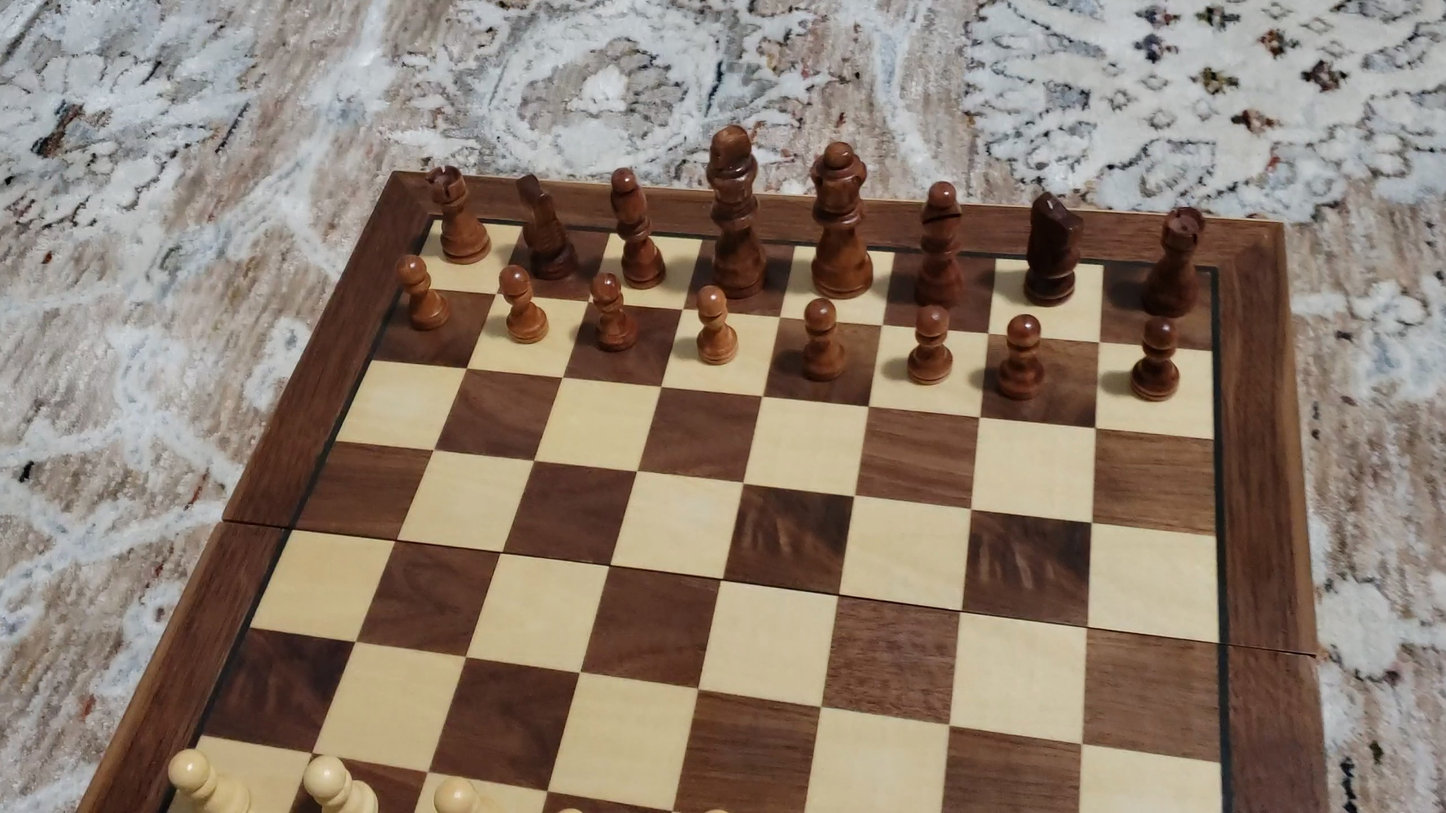black-bishop: (607, 163, 665, 289), (916, 177, 965, 309)
black-king: (702, 120, 770, 297)
black-knight: (1021, 187, 1084, 307), (513, 170, 576, 281)
black-pawn: (1129, 316, 1186, 405), (993, 311, 1047, 404), (393, 252, 449, 334), (497, 261, 550, 346), (587, 270, 638, 355), (799, 296, 847, 383), (691, 282, 738, 368), (907, 303, 955, 386)
black-queen: (806, 137, 874, 298)
black-rook: (1136, 204, 1207, 318), (425, 163, 489, 264)
white-pawn: (295, 749, 376, 812), (427, 773, 491, 812)
